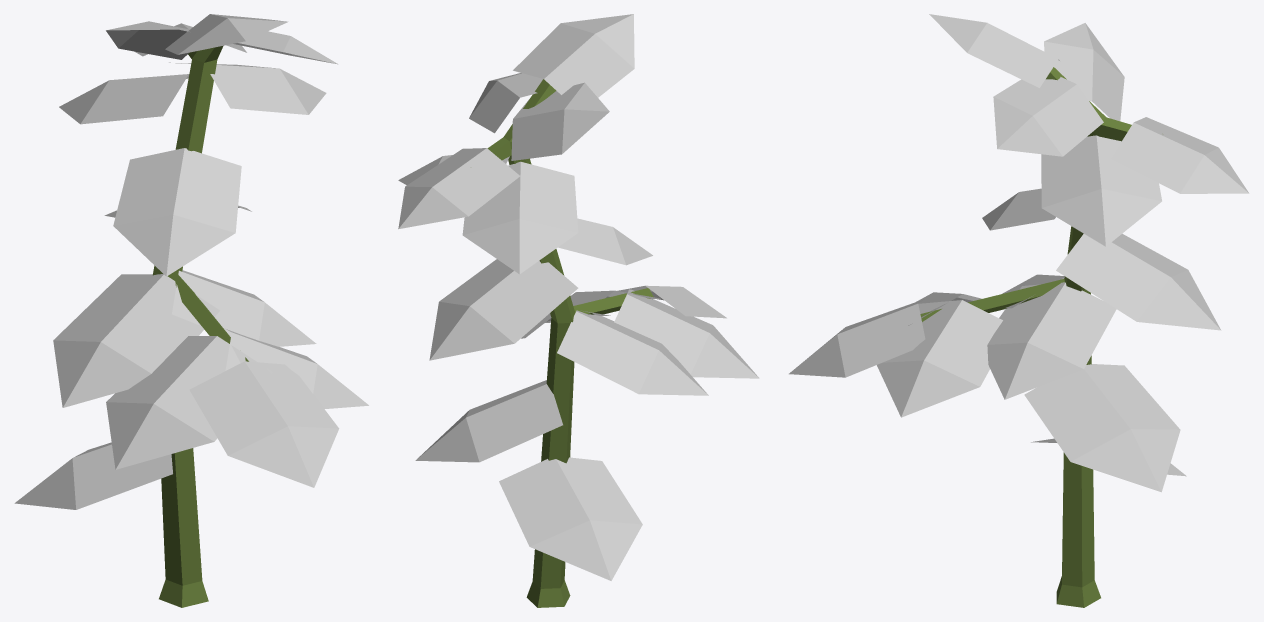
Rendered from SM_Envr_Nature_Farm_Plant_Generic_Small.fbx.
3 views of the same model, side by side, from view 1: azimuth 30°, elevation 25°; view 2: azimuth 150°, elevation 25°; view 3: azimuth 270°, elevation 25° (orthographic). The views are drawn at different scales.
Parts seen in each view (by area): view 1: SM_Envr_Nature_Farm_Plant_Generic_Small; view 2: SM_Envr_Nature_Farm_Plant_Generic_Small; view 3: SM_Envr_Nature_Farm_Plant_Generic_Small.
Part boxes in pixels (x1,y1,x2,y2): SM_Envr_Nature_Farm_Plant_Generic_Small: (14,14,368,607); SM_Envr_Nature_Farm_Plant_Generic_Small: (398,14,759,607); SM_Envr_Nature_Farm_Plant_Generic_Small: (789,14,1249,607).
Size of the model in its own units: 25.39 by 47.88 by 34.75.
